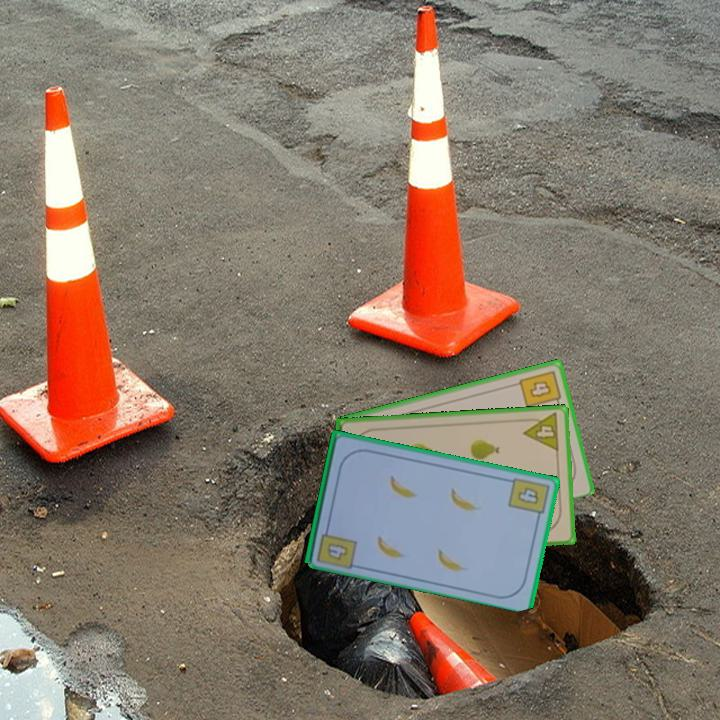4b: (505, 473, 552, 523), (516, 367, 564, 410), (324, 539, 351, 563)
4p: (520, 410, 562, 454)
